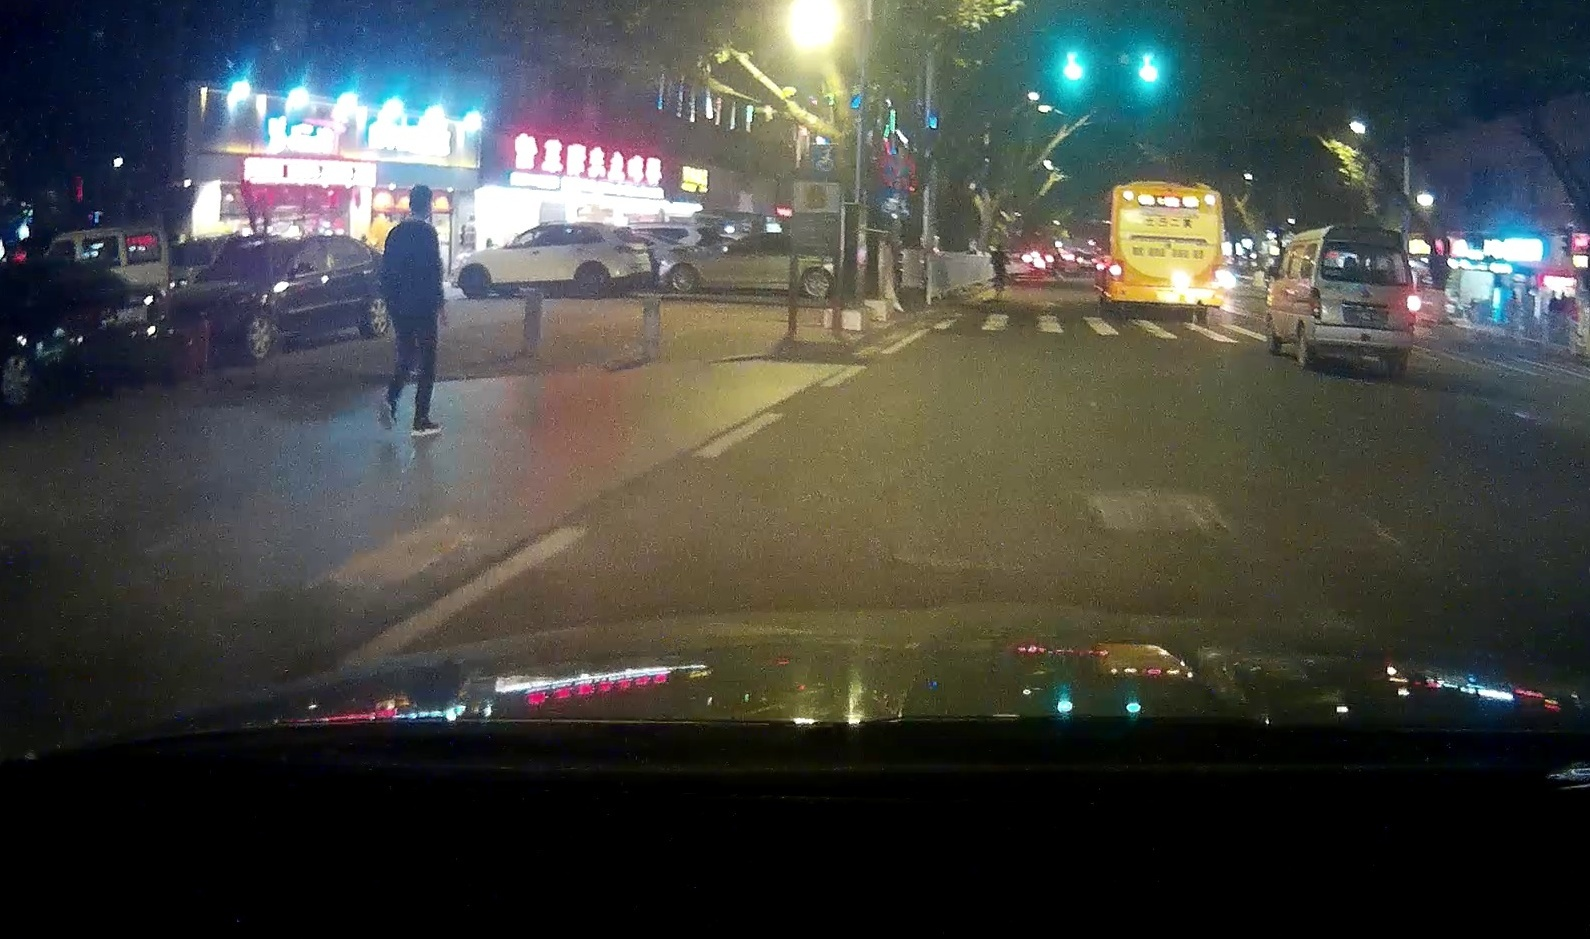L_light: (1308, 286, 1322, 323), (1110, 259, 1124, 283)
R_light: (1406, 293, 1418, 328), (1212, 263, 1224, 288)
T_light: (1361, 241, 1379, 248), (1162, 192, 1180, 197)
night-no: (1110, 181, 1224, 321)
night-right: (1305, 224, 1420, 374)
